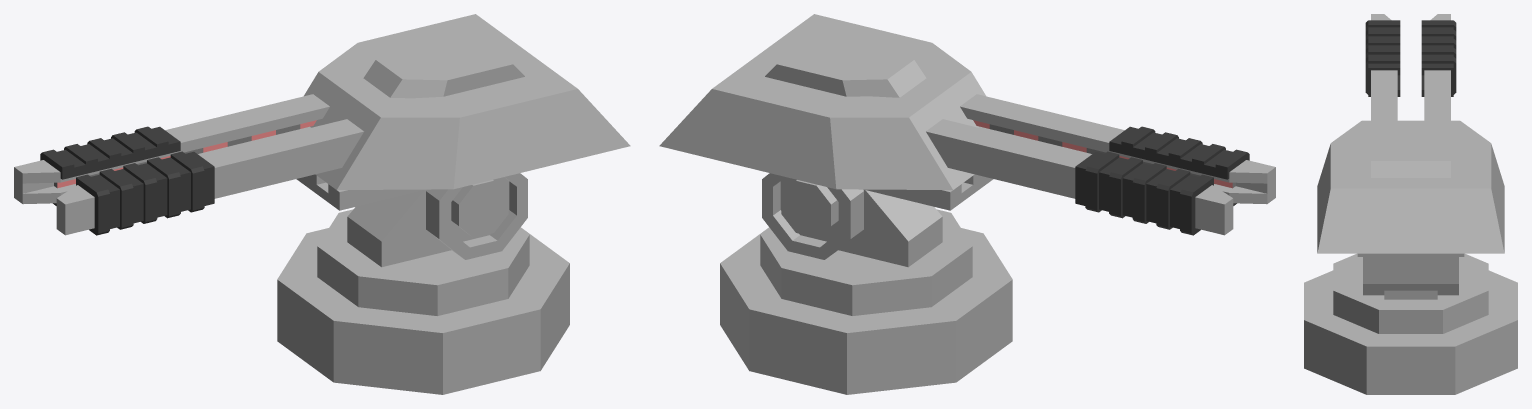
File: railgun.fbx
3 views of the same model, side by side, from view 1: azimuth 30°, elevation 25°; view 2: azimuth 150°, elevation 25°; view 3: azimuth 270°, elevation 25° (orthographic). The views are drawn at different scales.
Parts seen in each view (by area): view 1: gunOuter, base, swivel, heatshield, Tilt, recoil, Magnets_1; view 2: gunOuter, base, swivel, heatshield, Tilt, recoil, Magnets; view 3: gunOuter, base, swivel, heatshield, Tilt, recoil.
Part boxes in pixels (x1,y1,x2,y2): gunOuter: (14, 14, 630, 235); base: (277, 227, 569, 394); swivel: (317, 189, 529, 315); heatshield: (40, 126, 214, 235); Tilt: (426, 173, 527, 259); recoil: (296, 174, 424, 210); Magnets_1: (54, 120, 316, 188); gunOuter: (659, 14, 1275, 235); base: (720, 227, 1012, 394); swivel: (760, 189, 972, 315); heatshield: (1075, 126, 1249, 235); Tilt: (762, 173, 863, 259); recoil: (865, 174, 993, 210); Magnets: (973, 120, 1235, 188); gunOuter: (1317, 14, 1504, 253); base: (1304, 270, 1517, 394); swivel: (1333, 253, 1488, 333); heatshield: (1365, 20, 1456, 96); Tilt: (1363, 257, 1458, 295); recoil: (1357, 253, 1464, 256).
Size of the model in its own units: 56.25 by 27.5 by 25.
Materials: 3 (3 with a texture image).
